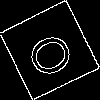O: (25, 25, 85, 82)
